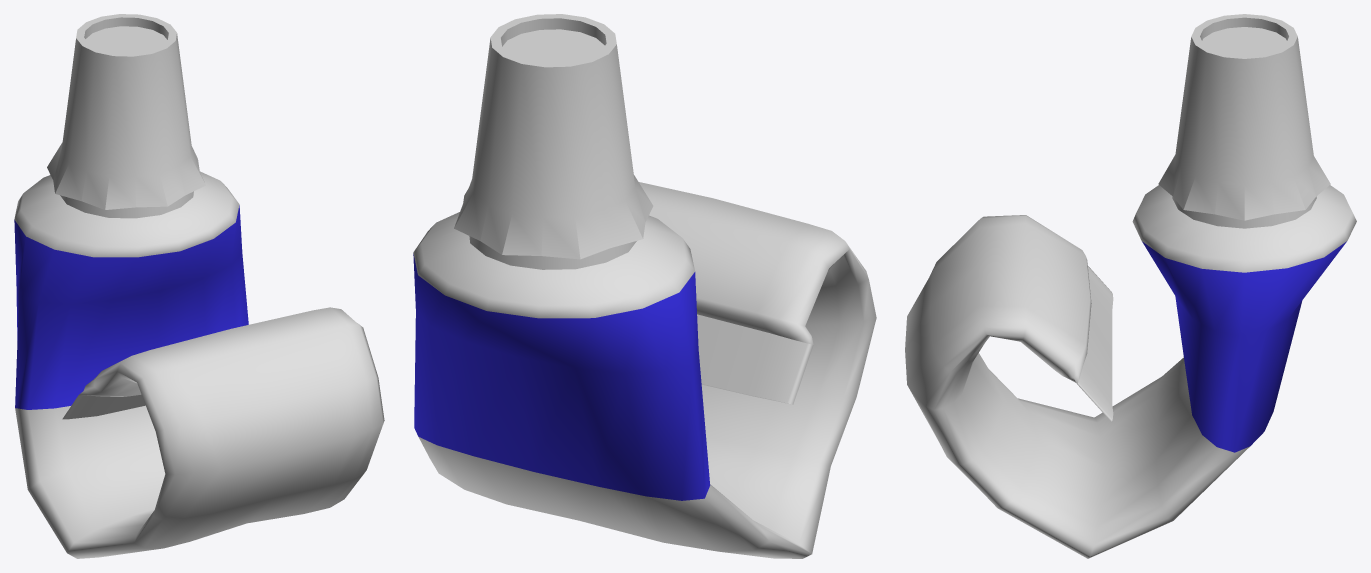
Rendered from paintTubeUsed.gltf.
The picture shows the model from 3 angles, left to right: view 1: azimuth 30°, elevation 25°; view 2: azimuth 150°, elevation 25°; view 3: azimuth 270°, elevation 25°; orthographic projection. The views are drawn at different scales.
Visible parts, largest first — view 1: Circle.012; view 2: Circle.012; view 3: Circle.012.
Part boxes in pixels (left/top/right/bottom): Circle.012: left=14, top=14, right=384, bottom=558; Circle.012: left=413, top=14, right=876, bottom=558; Circle.012: left=905, top=14, right=1356, bottom=558.
Size of the model in its own units: 4.24 by 6.62 by 5.84.
